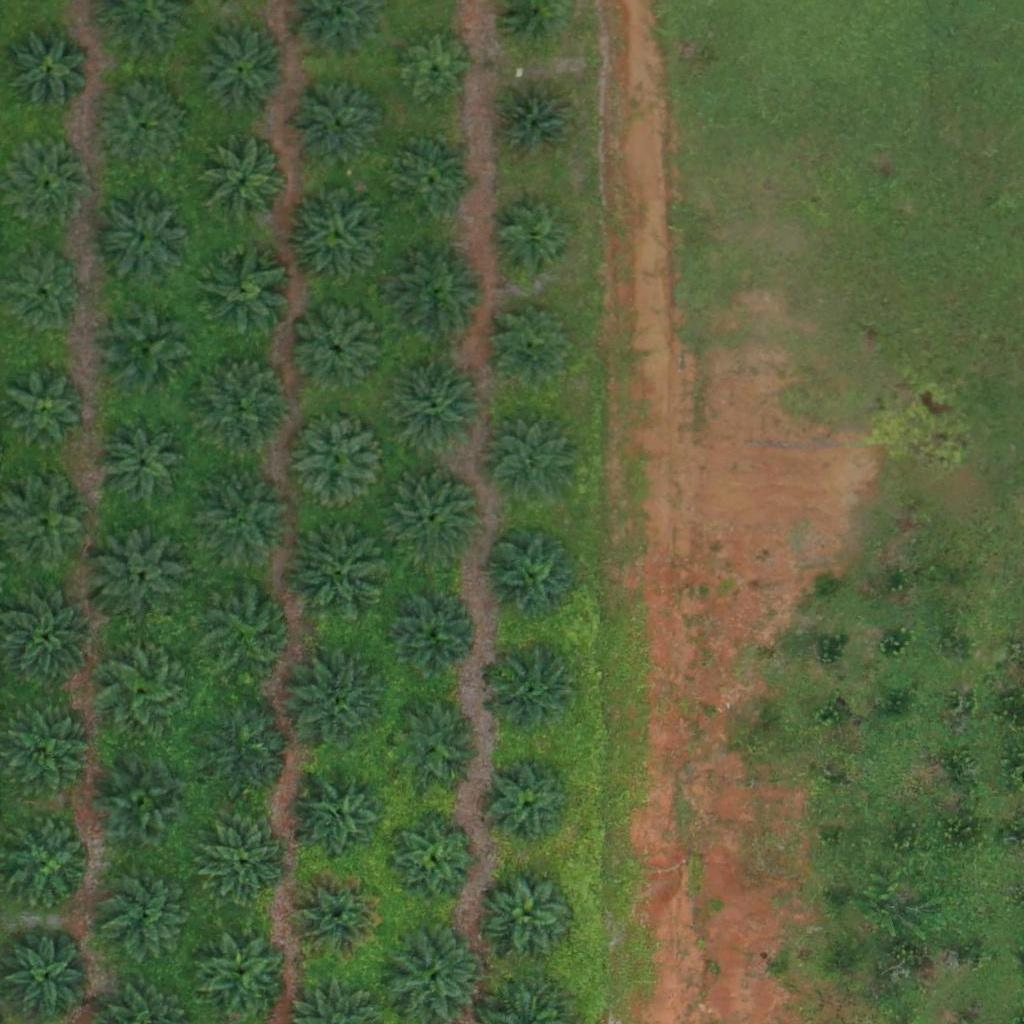Kelapa_Sawit: (97, 298, 197, 399), (192, 351, 292, 452), (197, 472, 297, 573), (288, 411, 388, 512), (287, 522, 387, 623), (288, 655, 388, 756), (390, 356, 490, 457), (383, 467, 483, 568), (482, 526, 582, 627), (98, 862, 198, 963), (386, 245, 486, 345), (286, 184, 386, 284), (192, 241, 292, 341), (92, 188, 192, 288), (91, 520, 191, 620), (200, 581, 300, 681), (199, 701, 299, 801), (294, 307, 382, 396), (488, 200, 576, 288), (391, 137, 479, 225), (292, 81, 380, 169), (99, 421, 187, 509), (98, 643, 186, 731), (101, 762, 189, 850), (388, 591, 476, 679), (490, 647, 578, 735), (486, 761, 574, 849), (487, 871, 575, 959), (201, 818, 289, 906), (492, 81, 579, 169), (197, 29, 284, 117), (200, 140, 287, 228), (100, 89, 187, 177), (5, 592, 92, 680), (392, 703, 479, 791), (488, 301, 575, 389), (488, 416, 575, 504), (297, 775, 384, 863), (389, 814, 476, 902), (293, 872, 380, 960), (1, 821, 88, 909), (14, 35, 89, 111), (12, 146, 87, 222), (9, 369, 84, 445), (400, 35, 475, 110), (4, 261, 79, 336)
